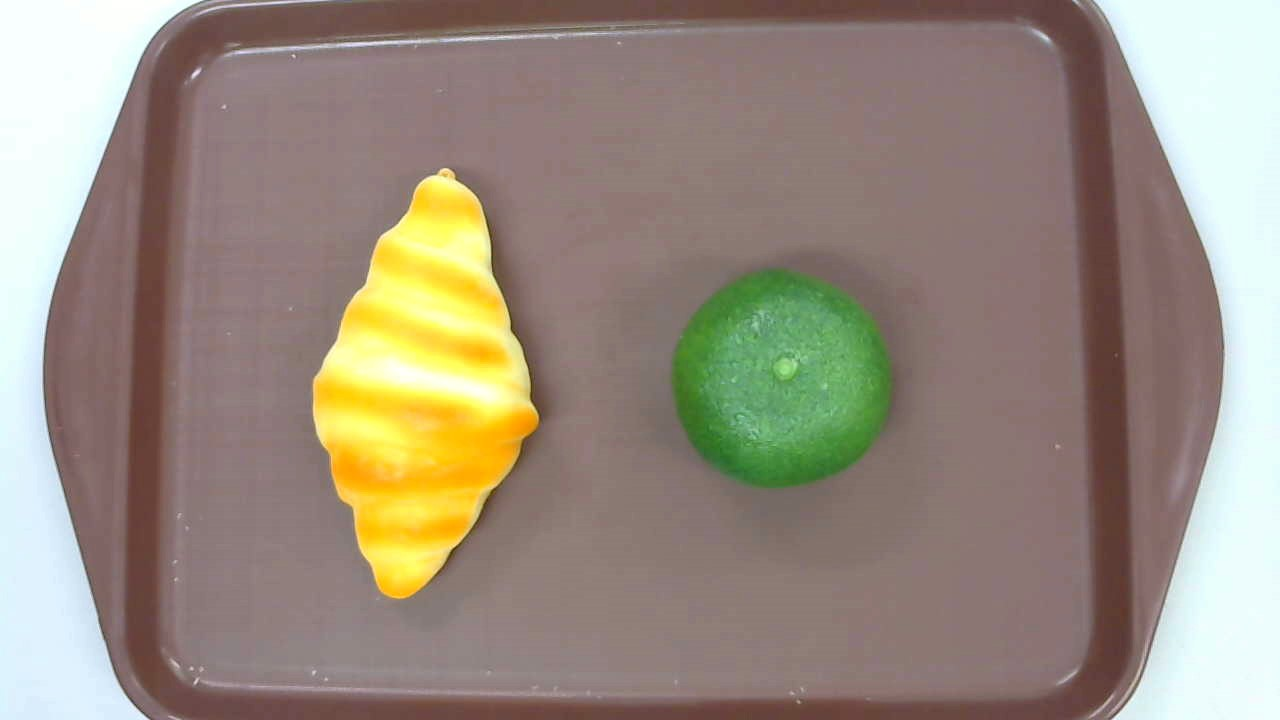croissant: (311, 166, 539, 600)
green orange: (673, 265, 894, 487)
